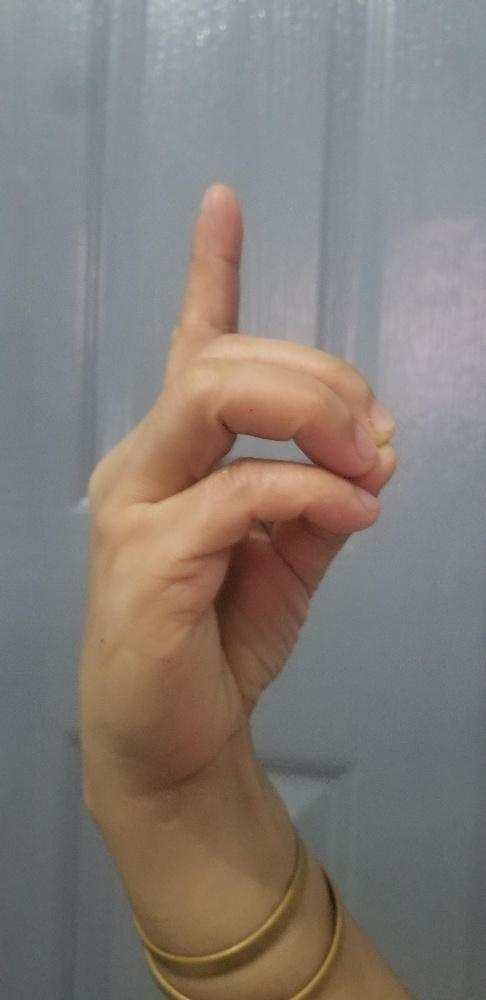d: (73, 179, 397, 794)
